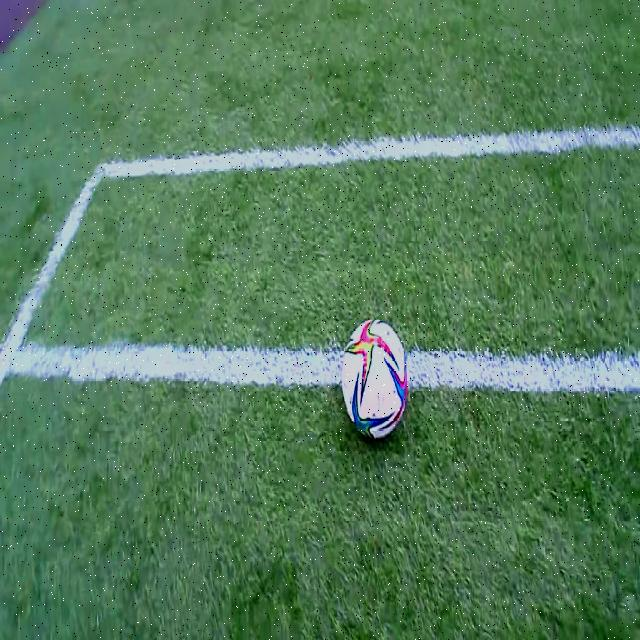ball: (342, 319, 407, 440)
